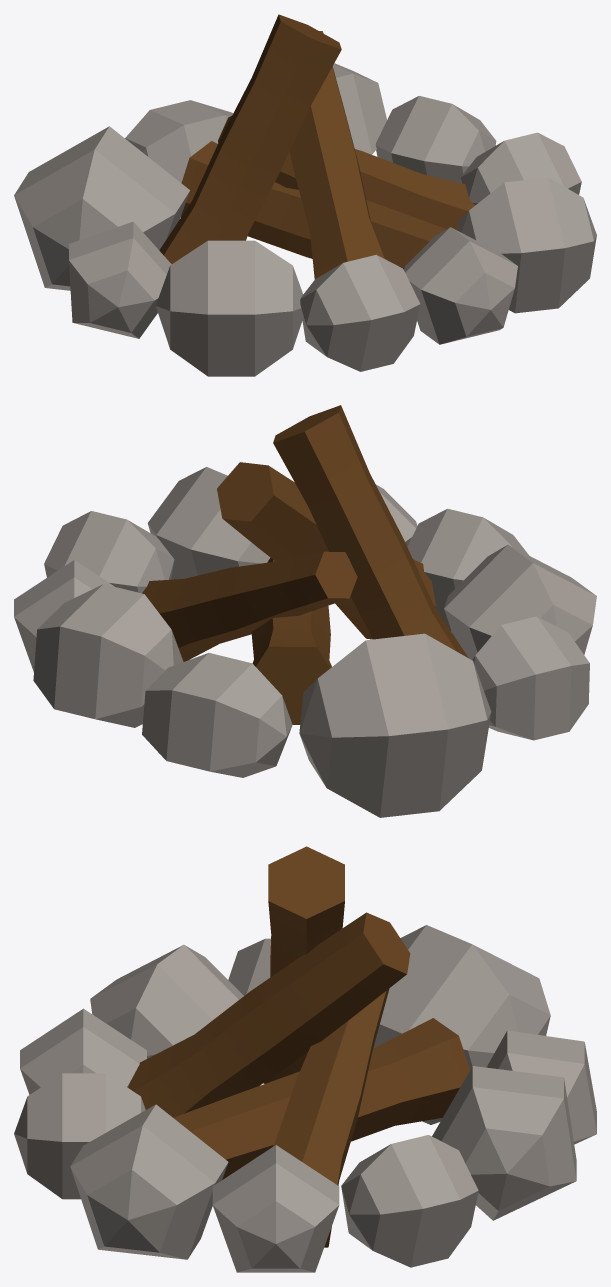
File: Campfire1.fbx
3 renders of one model, top to bottom at view 1: azimuth 30°, elevation 25°; view 2: azimuth 150°, elevation 25°; view 3: azimuth 270°, elevation 25°, orthographic. The views are drawn at different scales.
Visible parts, largest first — view 1: Campfire1; view 2: Campfire1; view 3: Campfire1.
Part boxes in pixels (x1,y1,x2,y2): Campfire1: (14,14,596,376); Campfire1: (14,405,596,817); Campfire1: (14,846,596,1272).
Size of the model in its own units: 9.23 by 4.99 by 8.31.
